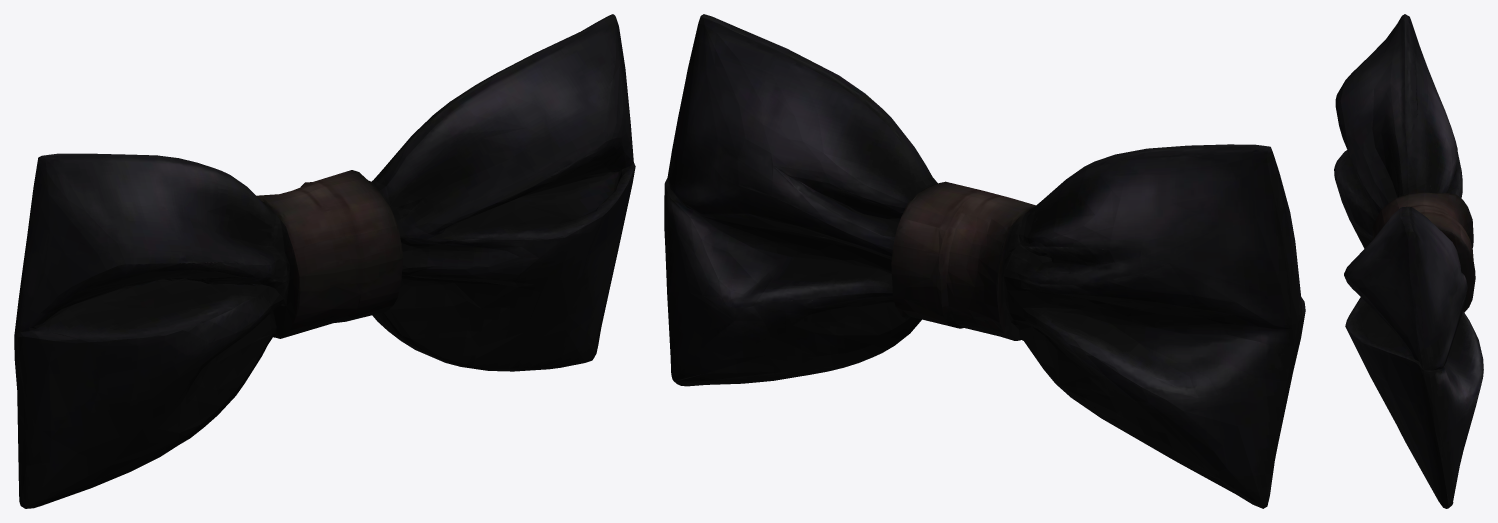
3 views of the same model, side by side, from view 1: azimuth 30°, elevation 25°; view 2: azimuth 150°, elevation 25°; view 3: azimuth 270°, elevation 25° (orthographic). The views are drawn at different scales.
Visible parts, largest first — view 1: geometry_0; view 2: geometry_0; view 3: geometry_0.
Boxes of the visible parts, x1,y1,x2,y2 form: geometry_0: [14, 14, 635, 508]; geometry_0: [664, 14, 1305, 508]; geometry_0: [1334, 14, 1483, 508].
Size of the model in its own units: 0.9995 by 0.5505 by 0.2669.
1 material, 1 textured.
